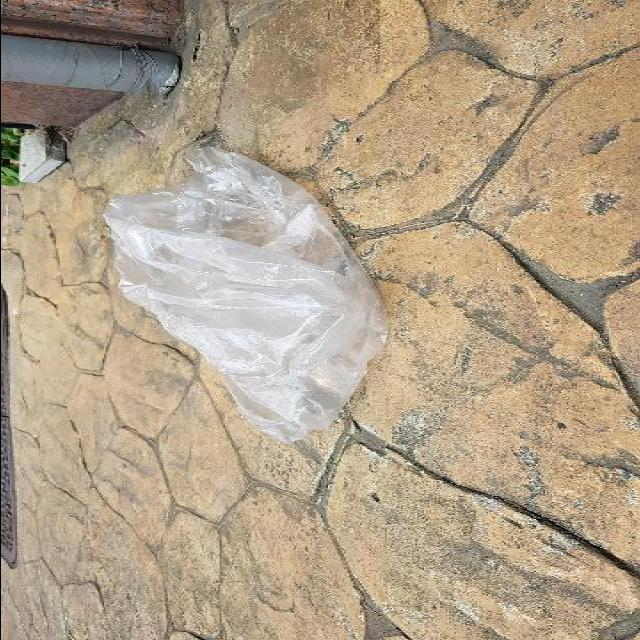plastic bag: (99, 146, 391, 448)
